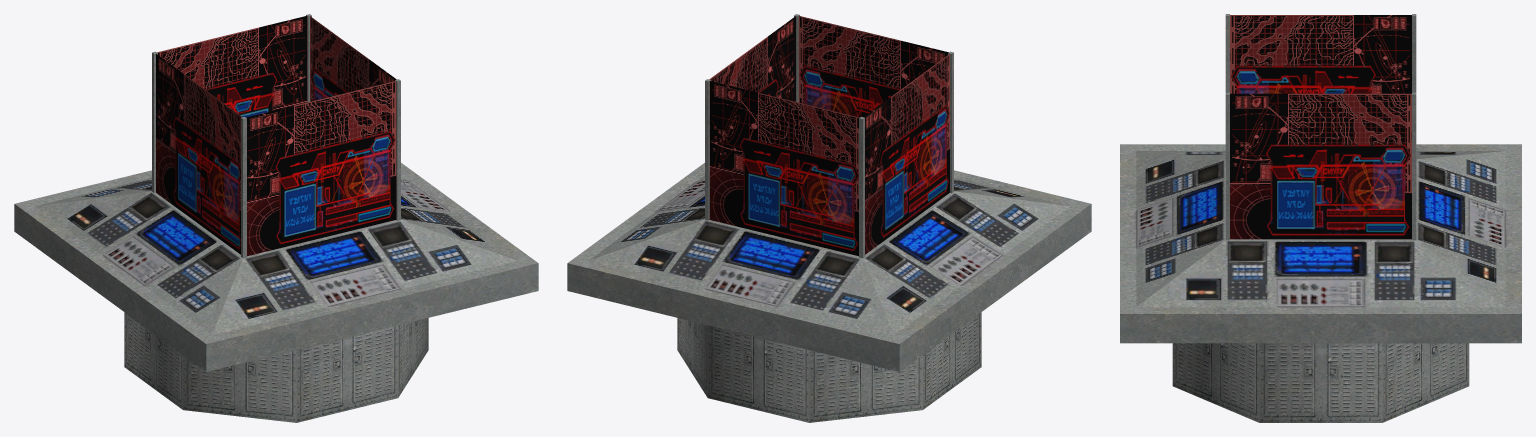
The model's file is frn_tech_console_tableglobe_l2.fbx.
The picture shows the model from 3 angles, left to right: view 1: azimuth 30°, elevation 25°; view 2: azimuth 150°, elevation 25°; view 3: azimuth 270°, elevation 25°; orthographic projection. The views are drawn at different scales.
Visible parts, largest first — view 1: mesh_node; view 2: mesh_node; view 3: mesh_node.
Boxes of the visible parts, x1=… form: mesh_node: x1=14, y1=14, x2=538, y2=422; mesh_node: x1=567, y1=14, x2=1091, y2=422; mesh_node: x1=1120, y1=14, x2=1521, y2=422.
Bounding box in the file's own units: 2.5 × 2.1 × 2.5.
